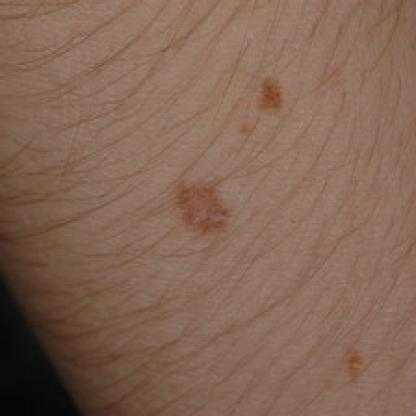Skin_Cancer-Malignant: (178, 181, 232, 236), (257, 74, 286, 115)
